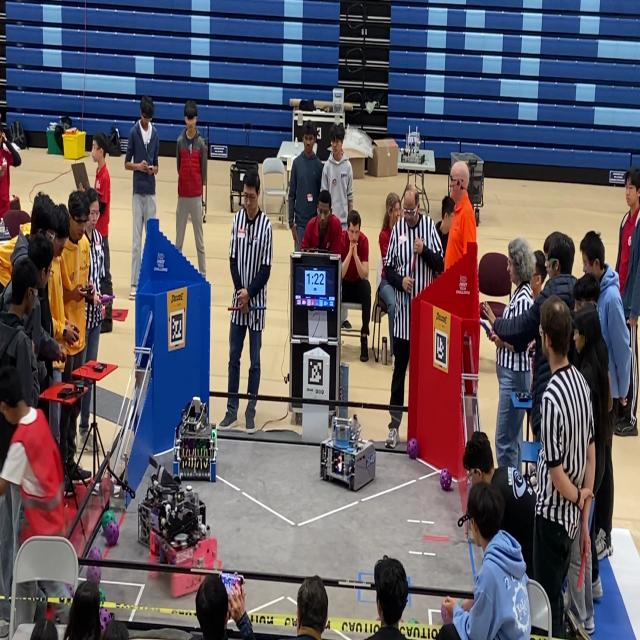artifact_green: (101, 511, 115, 530), (408, 619, 419, 624)
artifact_purple: (105, 523, 119, 546), (100, 608, 112, 634), (87, 566, 101, 584), (440, 469, 451, 491), (441, 603, 452, 624), (407, 438, 418, 459), (89, 547, 102, 560), (99, 588, 105, 604), (67, 584, 74, 597)
